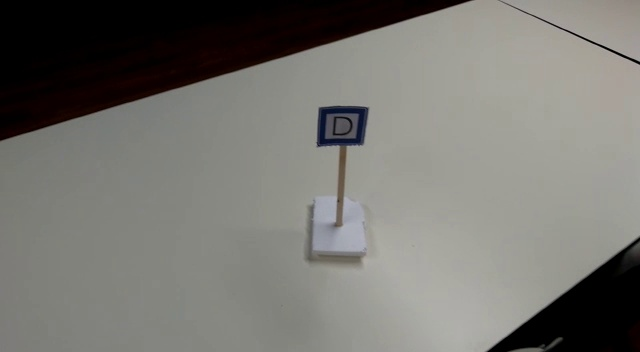durak: (318, 105, 366, 148)
